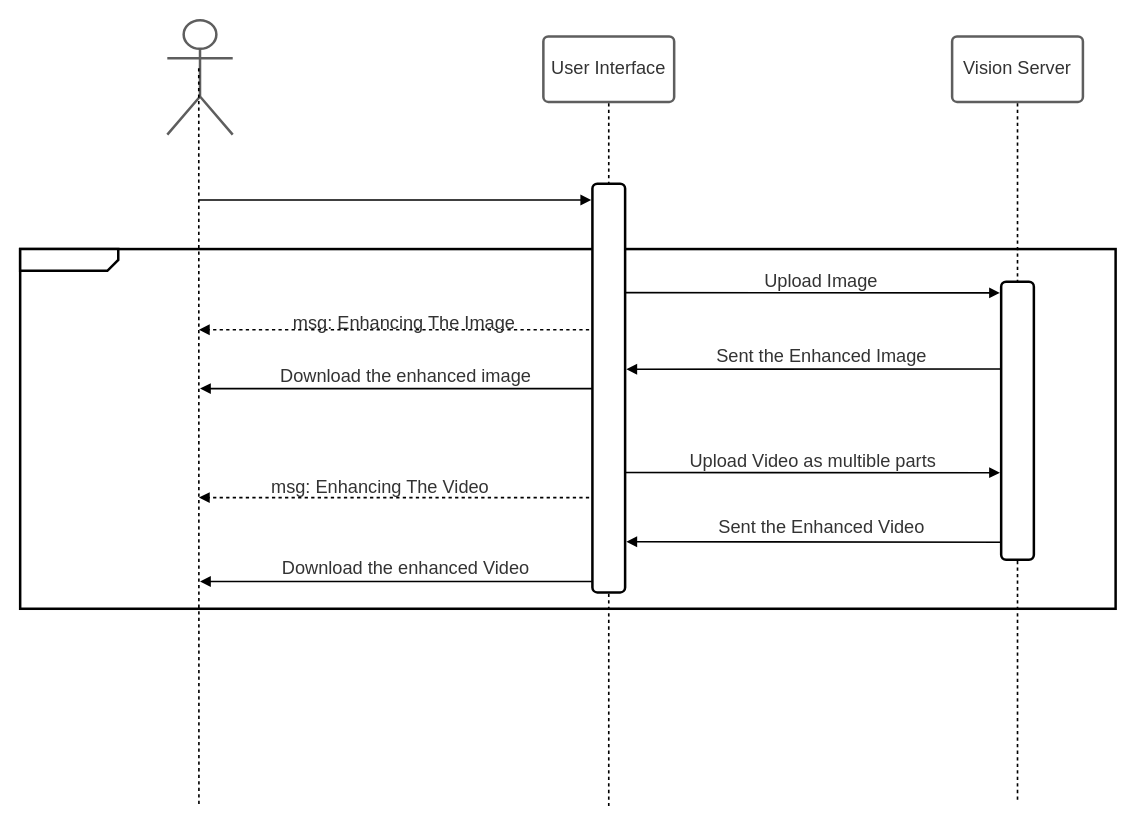
Image size: 1136x826. Some labels were removed from this diagram. Here are the shapes that lost their labels. From the top down, the box of each, then its label:
(166, 18, 233, 135): Actor
(280, 166, 479, 217): Upload Media
(18, 247, 1116, 610): Alternative
